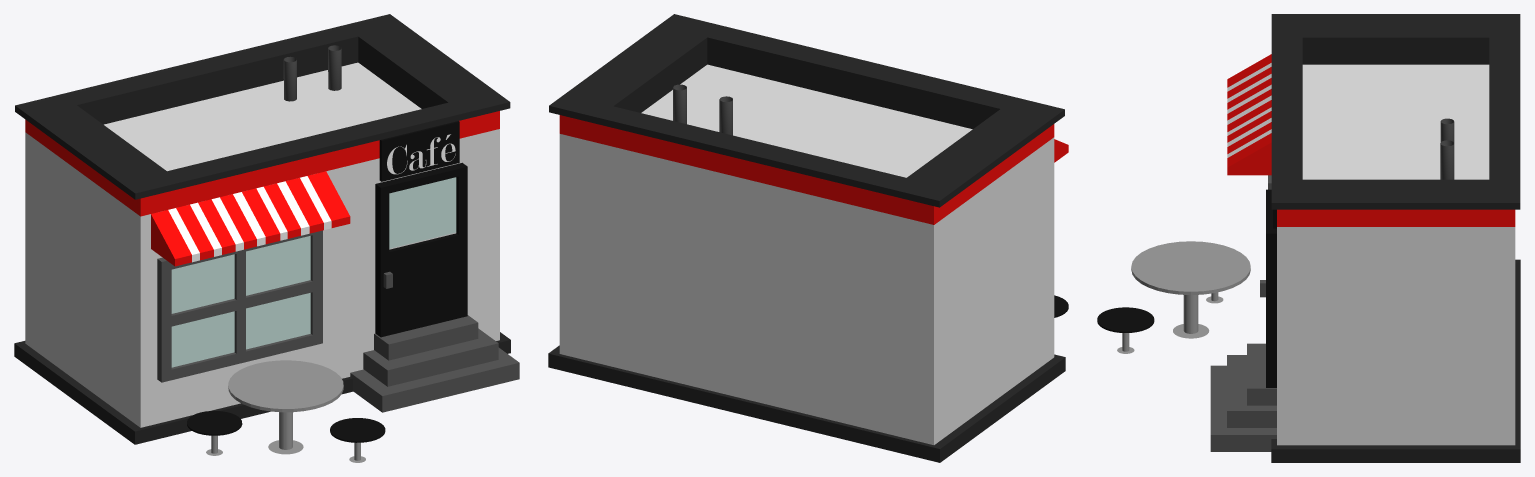
File: Cafe.fbx
The picture shows the model from 3 angles, left to right: view 1: azimuth 30°, elevation 25°; view 2: azimuth 150°, elevation 25°; view 3: azimuth 270°, elevation 25°; orthographic projection. The views are drawn at different scales.
Visible parts, largest first — view 1: Cube, Cube.012, Cube.001, Cube.002, Cube.003, Cube.014, Cube.007, Cube.011, Cylinder.002, Cube.010, Cube.008, Cube.005 (+8 smaller); view 2: Cube, Cube.012, Cube.010, Cube.011, Cube.013, Cylinder, Cylinder.001; view 3: Cube, Cube.012, Cube.003, Cube.010, Cylinder.002, Cube.011, Cube.007, Cube.002, Cube.005, Cylinder.006, Cube.013, Cylinder.004 (+1 smaller).
Part boxes in pixels (<box>): Cube: <box>25,62,499,427</box>; Cube.012: <box>15,14,510,199</box>; Cube.001: <box>171,236,310,367</box>; Cube.002: <box>375,162,467,337</box>; Cube.003: <box>350,315,519,412</box>; Cube.014: <box>157,230,322,382</box>; Cube.007: <box>151,171,350,266</box>; Cube.011: <box>25,111,499,216</box>; Cylinder.002: <box>228,360,343,412</box>; Cube.010: <box>14,332,510,444</box>; Cube.008: <box>389,177,456,248</box>; Cube.005: <box>168,176,331,262</box>; Cube: <box>559,64,1054,444</box>; Cube.012: <box>549,14,1064,207</box>; Cube.010: <box>548,345,1065,462</box>; Cube.011: <box>559,115,1054,224</box>; Cube.013: <box>549,105,938,200</box>; Cylinder: <box>673,84,686,124</box>; Cylinder.001: <box>719,96,732,135</box>; Cube: <box>1277,64,1515,445</box>; Cube.012: <box>1271,14,1520,209</box>; Cube.003: <box>1210,343,1276,451</box>; Cube.010: <box>1271,259,1520,462</box>; Cylinder.002: <box>1131,241,1250,294</box>; Cube.011: <box>1277,209,1515,226</box>; Cube.007: <box>1227,54,1271,175</box>; Cube.002: <box>1266,189,1276,387</box>; Cube.005: <box>1227,63,1271,157</box>; Cylinder.006: <box>1097,307,1154,332</box>; Cube.013: <box>1515,14,1520,202</box>; Cylinder.004: <box>1173,295,1209,338</box>.
Bounding box in the file's own units: 377 × 356 × 254.
